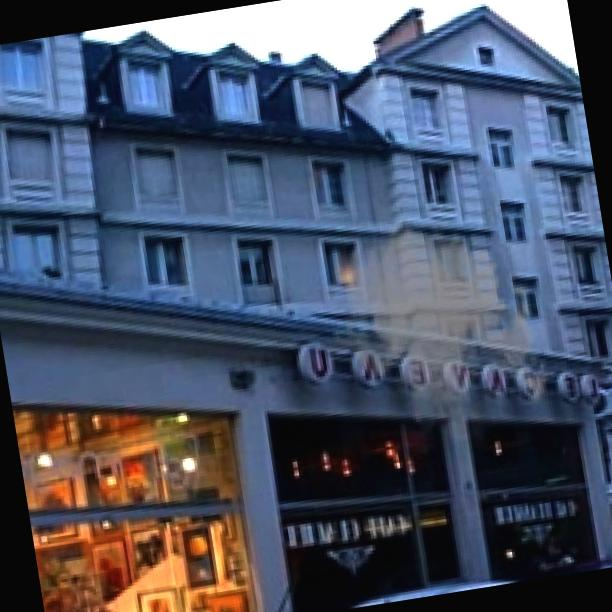smoke: (313, 194, 563, 468)
